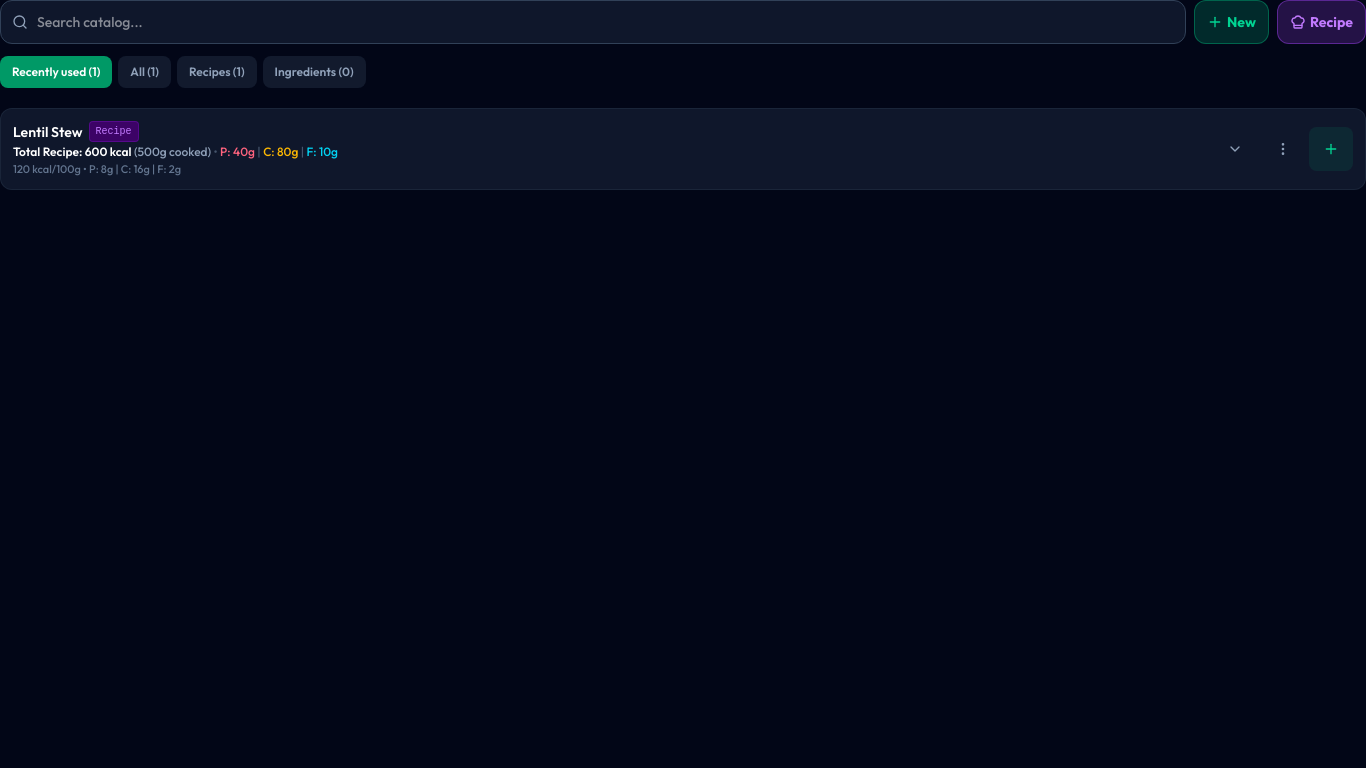
Test case: CatalogManager - Recipes Integration › opens RecipeBuilder when Recipe button is clicked
Click the button "Recipe". click: coordinates (1322, 22)
box: x1=1277 y1=0 x2=1365 y2=44
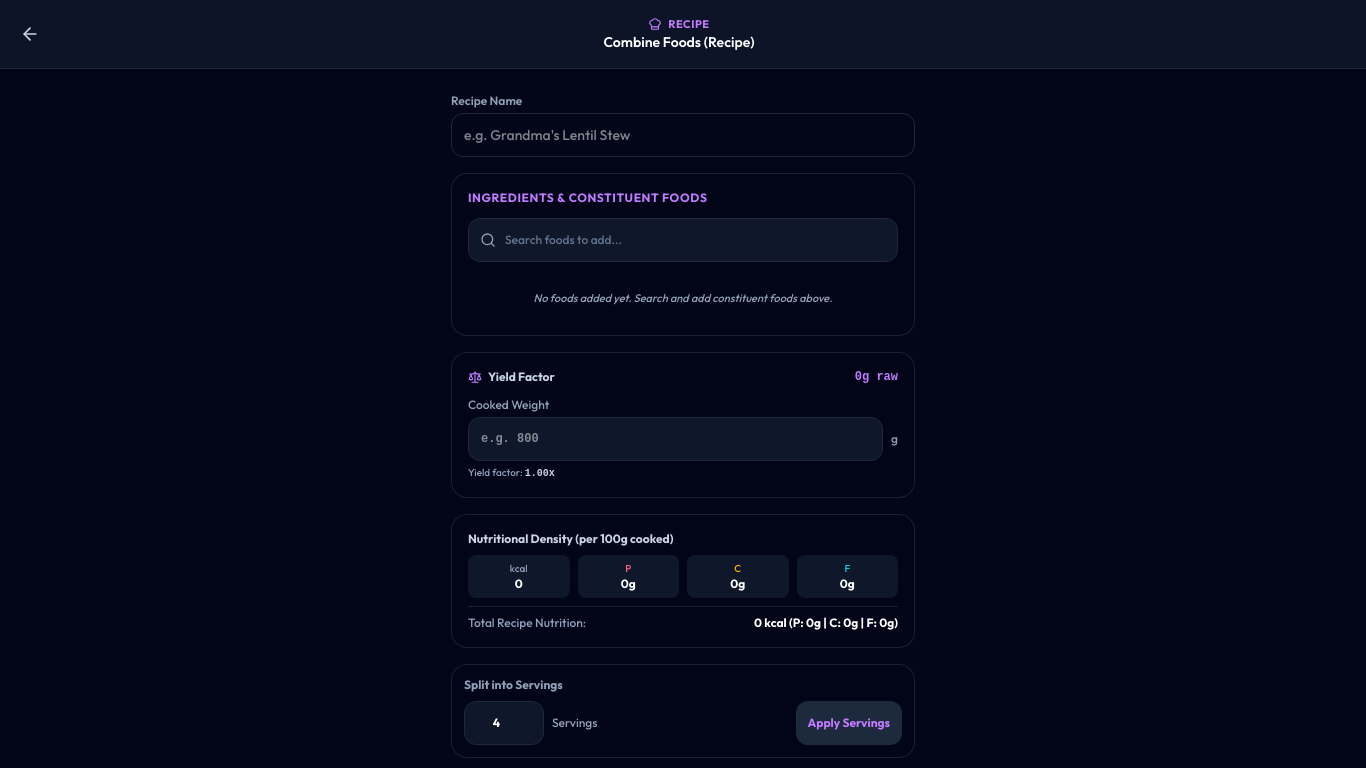
Result: the heading "Combine Foods (Recipe)" is shown at x1=603 y1=33 x2=755 y2=51
